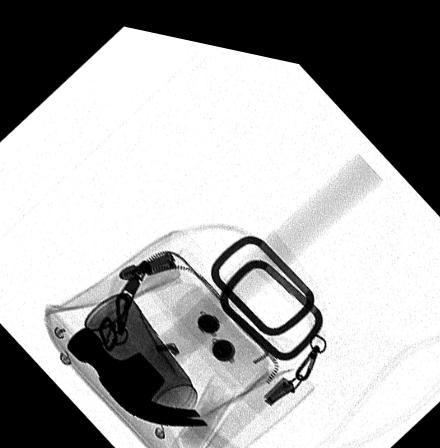Hammer: (65, 137, 383, 419)
